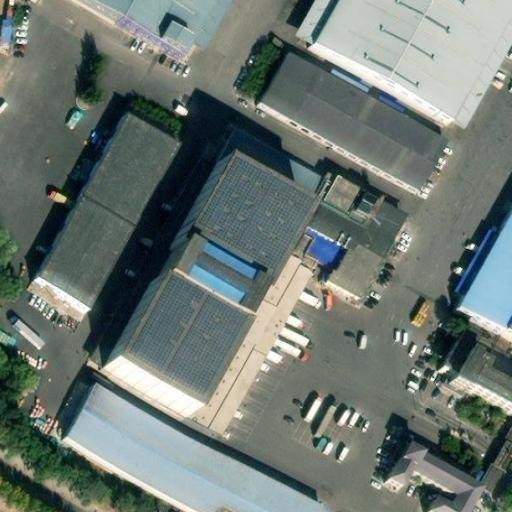building: (105, 154, 307, 406), (30, 123, 200, 326), (63, 383, 329, 512), (223, 127, 411, 300), (297, 0, 512, 122), (261, 51, 447, 189), (457, 211, 512, 340), (388, 447, 484, 512), (444, 348, 512, 417), (285, 221, 345, 269), (475, 423, 512, 495)
